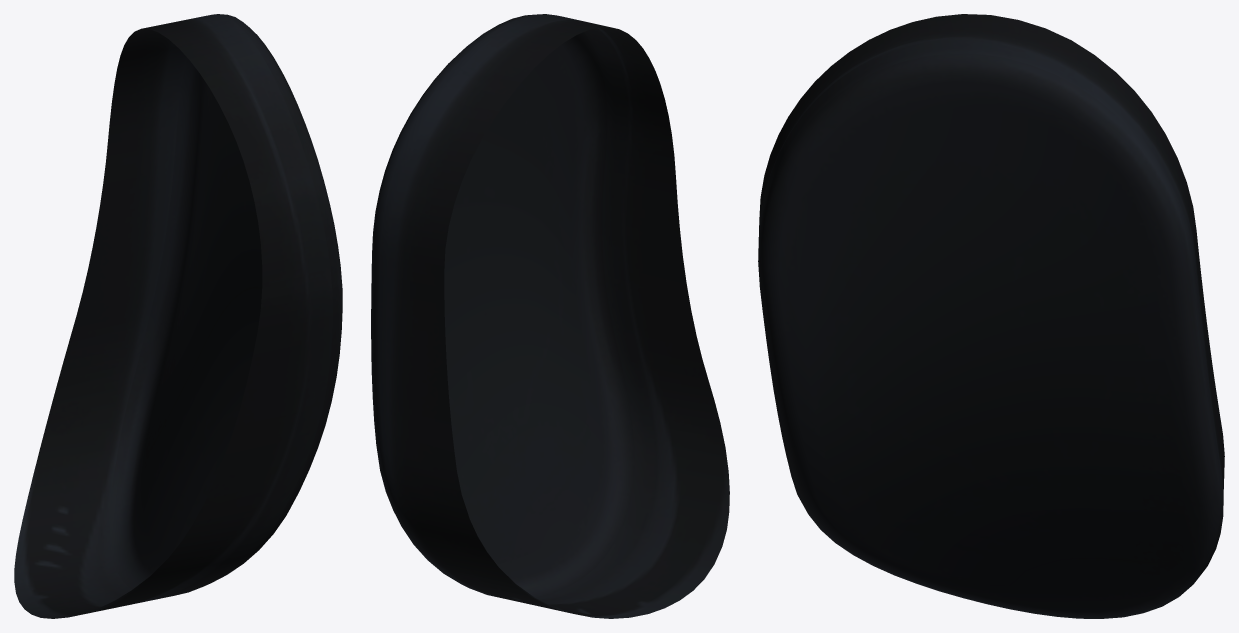
Rendered from playstation_vr2_sense_left_l1.obj.
The picture shows the model from 3 angles, left to right: view 1: azimuth 30°, elevation 25°; view 2: azimuth 150°, elevation 25°; view 3: azimuth 270°, elevation 25°; orthographic projection. The views are drawn at different scales.
Visible parts, largest first — view 1: mesh_L1_button_L; view 2: mesh_L1_button_L; view 3: mesh_L1_button_L.
Boxes of the visible parts, x1,y1,x2,y2 form: mesh_L1_button_L: (14, 14, 342, 618); mesh_L1_button_L: (371, 14, 729, 618); mesh_L1_button_L: (758, 14, 1224, 618).
Bounding box in the file's own units: 0.0108 × 0.0224 × 0.0156.
1 material, 1 textured.
